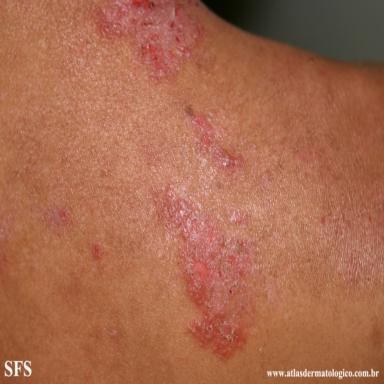Hailey-Hailey-Disease: (154, 185, 255, 357), (98, 2, 202, 80), (192, 117, 241, 172)
